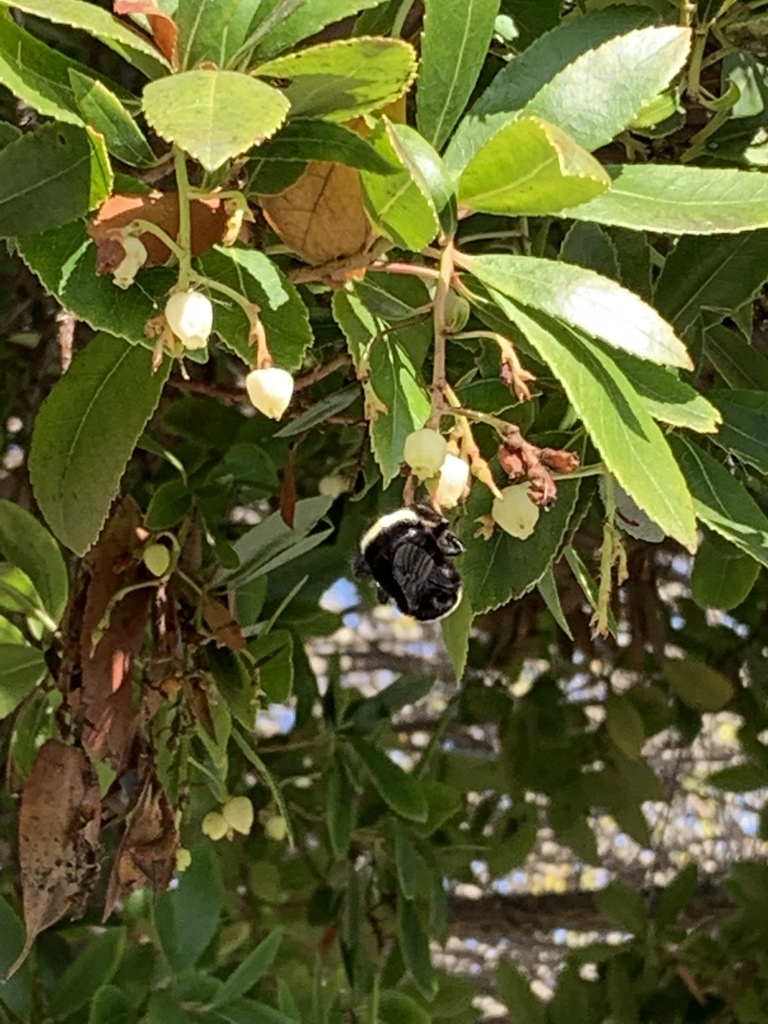bumblebee: (351, 506, 467, 628)
